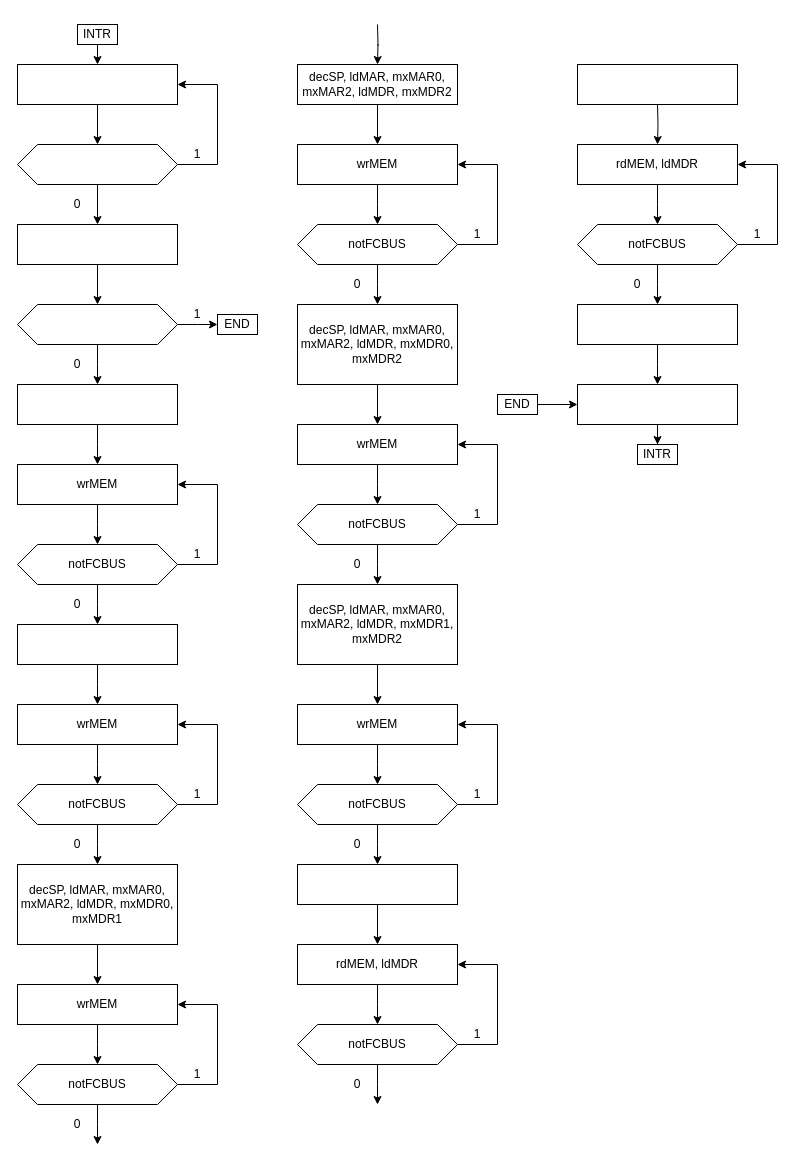
The diagram is 803 pixels wide and 1170 high, and some of its shapes have lost their labels. Here are the shapes that lost their labels. From the top down, the centre of each, then its label:
At point (657, 84): "ldPC, mxPC0, incMAR".
At point (97, 164): "notINTR".
At point (97, 324): "notPrekid".
At point (657, 324): "ldPC, mxPC1, ldBR".
At point (97, 404): "decSP, ldMAR, mxMAR0, mxMAR2, ldMDR, mxMDR0".
At point (657, 404): "clINTR, stFETCH".
At point (97, 644): "decSP, ldMAR, mxMAR0, mxMAR2, ldMDR, mxMDR1".
At point (377, 884): "ldMAR, mxMAR0, mxMAR2".
